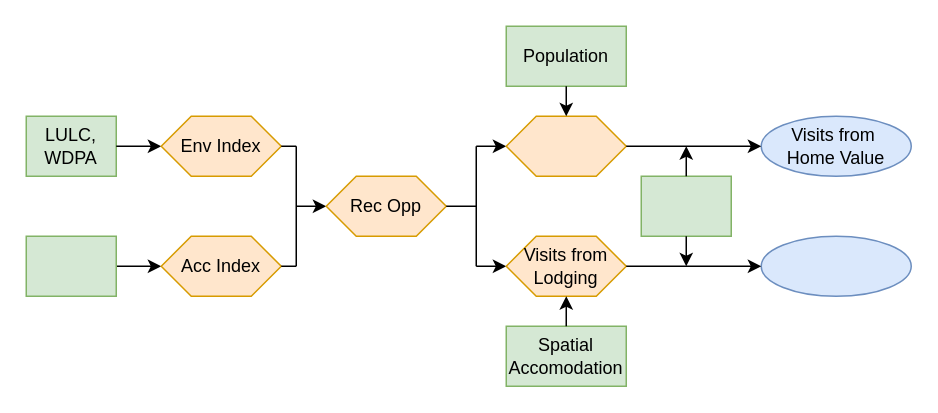
The diagram is 938 pixels wide and 413 high, and some of its shapes have lost their labels. The shapes that lost their labels are listed below. From the top down, each one's centre as x and y in pixels, then its label:
(565,145): Visits from Home
(685,205): Travel Costs
(70,265): Roads, Urban
(835,265): Visits from Lodging Value
